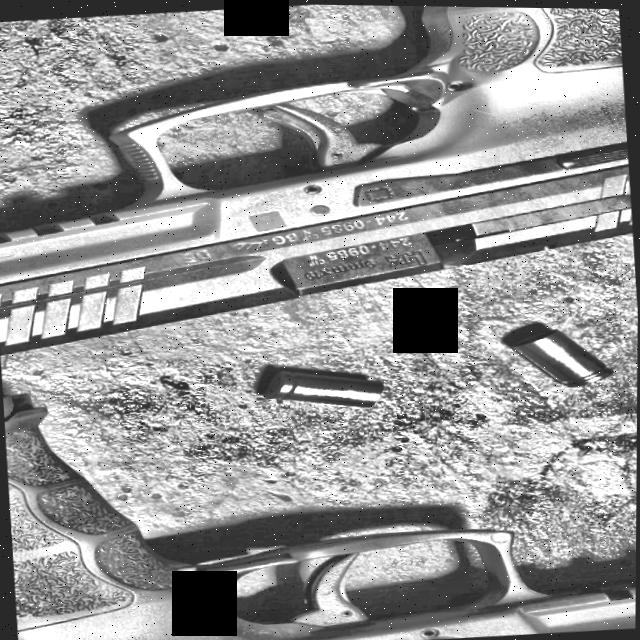Heckler - Koch -H-K-: (0, 5, 633, 357), (2, 398, 637, 640)
